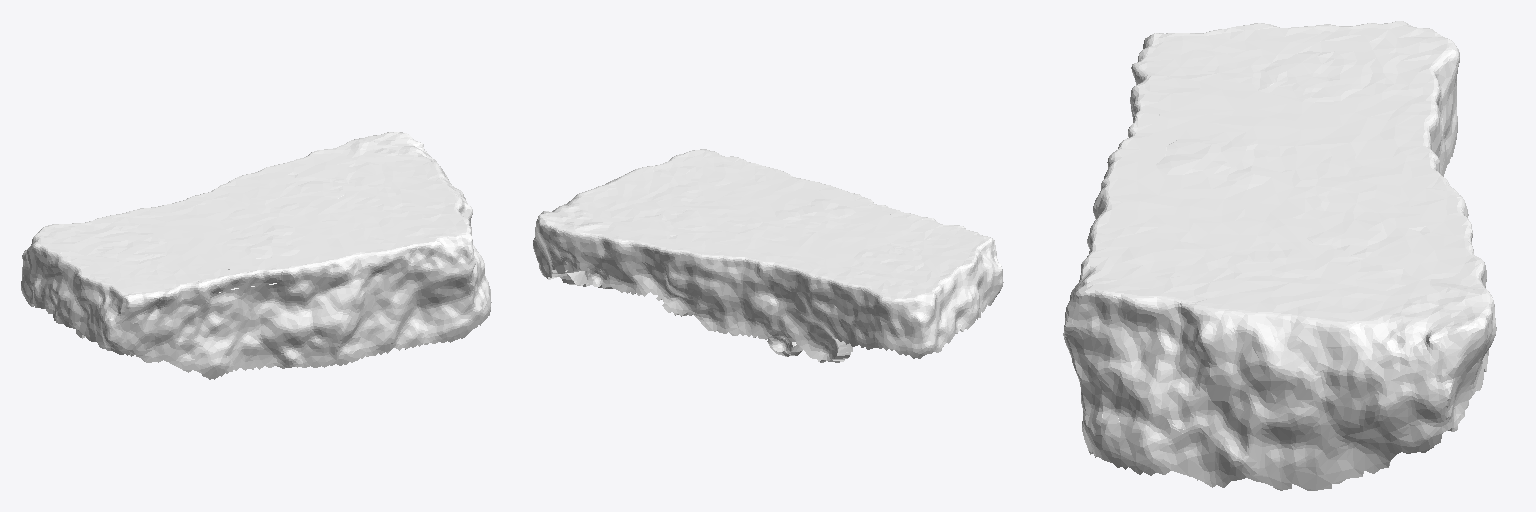
robot.urdf — frag3_top_calib_scaled:
<?xml version="1.0"?>
<robot name="frag3_top_calib_scaled">
  <material name="Blanc">
    <color rgba="1.0 1.0 1.0 1.0"/>
  </material>
  <link name="base_link">
    <visual>
      <origin xyz="0 0 0" rpy="0 0 0"/>
      <geometry>
        <mesh filename="frag3_small.stl"/>
      </geometry>
      <material name="Blanc"/>
    </visual>
    <collision>
      <origin xyz="0 0 0" rpy="0 0 0"/>
      <geometry>
	 	     <mesh filename="frag3_small.stl"/>
      </geometry>
    </collision>
    <contact>
      <lateral_friction value="2.0"/>
      <rolling_friction value="0.0001"/>
      <inertia_scaling value="3.0"/>
    </contact>
    <inertial>
      <origin rpy="0 0 0" xyz="0 0 0"/>
       <mass value="0.05"/>
       <inertia ixx="1" ixy="0" ixz="0" iyy="1" iyz="0" izz="1"/>
    </inertial>
  </link>

</robot>

--- What the picture shows (computed from the rendered views, not written in the file) ---
3 views of the same robot in one strip: view 1: azimuth 30°, elevation 25°; view 2: azimuth 150°, elevation 25°; view 3: azimuth 270°, elevation 25° (orthographic).
Model frag3_top_calib_scaled with 1 links and 0 joints (none), rooted at base_link, posed all joints at 0.
Links seen in each view (by area): view 1: base_link; view 2: base_link; view 3: base_link.
Link boxes in pixels (x1,y1,x2,y2): base_link: [21, 132, 491, 379]; base_link: [533, 149, 1003, 362]; base_link: [1063, 21, 1496, 490].
Bounding box of the posed robot: 0.086 × 0.048 × 0.0215 m (x, y, z).
1 mesh visuals loaded from 1 distinct referenced files (1 binary STL).
